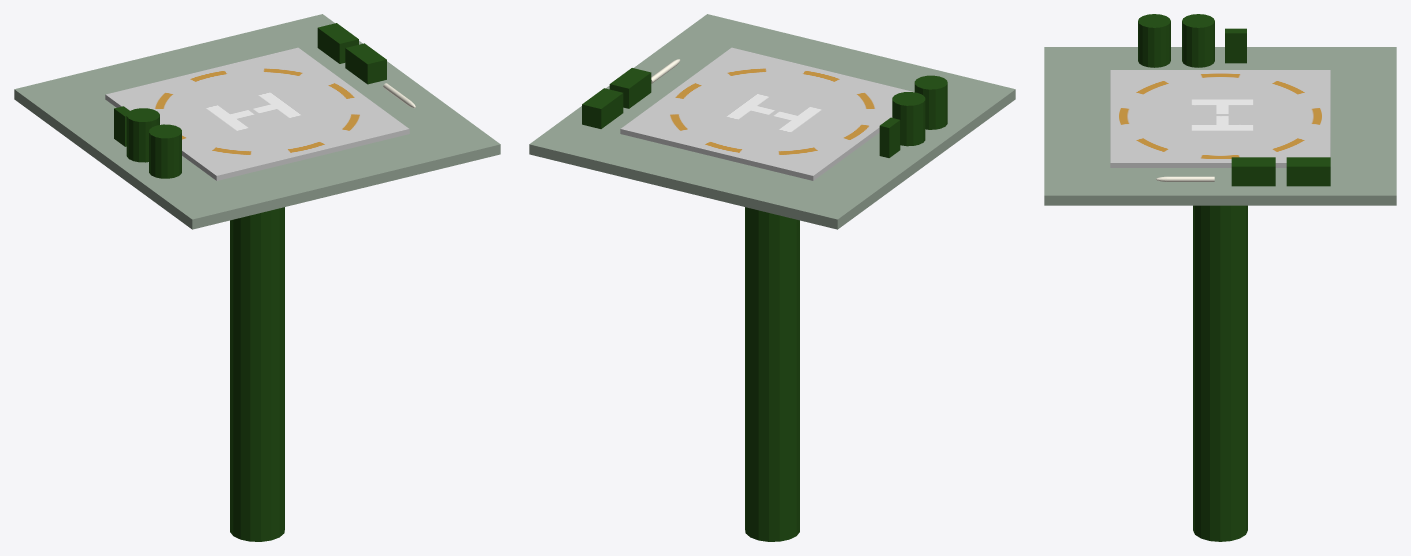
File: sea_landing_port_supply_station.CeErXXlg.glb
3 views of the same model, side by side, from view 1: azimuth 30°, elevation 25°; view 2: azimuth 150°, elevation 25°; view 3: azimuth 270°, elevation 25° (orthographic).
Parts seen in each view (by area): view 1: plattform, base, stand, Zylinder.002, Zylinder, Würfel.001, Würfel.002; view 2: plattform, base, stand, Zylinder, Zylinder.002, Würfel.002, Würfel.001, Würfel; view 3: plattform, base, stand, Zylinder, Zylinder.002, Würfel.001, Würfel.002, Würfel.
Boxes of the visible parts, bbox=[...] form: plattform: bbox=[14, 14, 500, 229]; base: bbox=[105, 47, 409, 180]; stand: bbox=[230, 207, 284, 541]; Zylinder.002: bbox=[149, 124, 181, 178]; Zylinder: bbox=[126, 108, 159, 162]; Würfel.001: bbox=[345, 43, 386, 84]; Würfel.002: bbox=[317, 23, 358, 63]; plattform: bbox=[529, 14, 1015, 229]; base: bbox=[620, 47, 914, 180]; stand: bbox=[745, 207, 799, 541]; Zylinder: bbox=[892, 92, 925, 146]; Zylinder.002: bbox=[914, 75, 947, 129]; Würfel.002: bbox=[582, 88, 623, 128]; Würfel.001: bbox=[609, 68, 651, 108]; Würfel: bbox=[879, 117, 900, 157]; plattform: bbox=[1044, 47, 1396, 205]; base: bbox=[1110, 70, 1330, 167]; stand: bbox=[1193, 205, 1247, 541]; Zylinder: bbox=[1182, 14, 1214, 67]; Zylinder.002: bbox=[1138, 14, 1170, 67]; Würfel.001: bbox=[1231, 157, 1275, 186]; Würfel.002: bbox=[1286, 157, 1330, 186]; Würfel: bbox=[1225, 28, 1246, 63].
Size of the model in its own units: 1.6 by 2.25 by 1.6.
4 materials, 1 textured.
